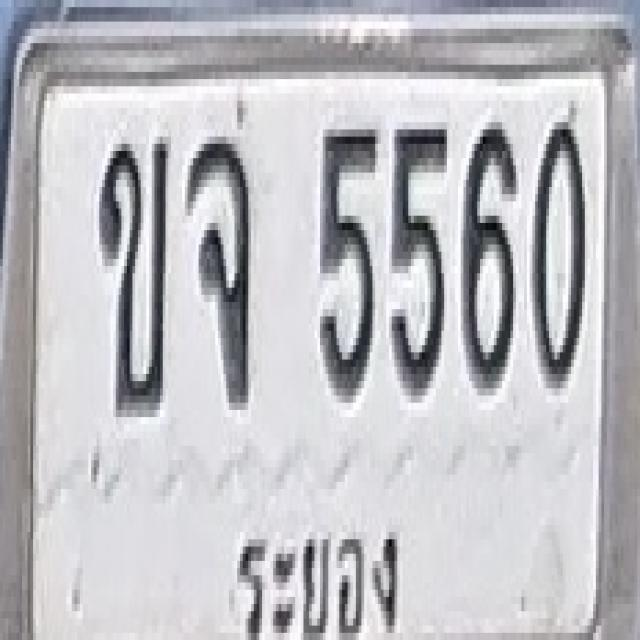-: (97, 133, 168, 414), (186, 133, 250, 406)
0: (530, 115, 584, 388)
5: (318, 122, 376, 403), (391, 122, 448, 396)
6: (461, 115, 516, 388)
RYG: (216, 485, 423, 640)
